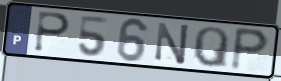5: (76, 14, 108, 59)
6: (114, 17, 150, 64)
N: (154, 21, 192, 67)
P: (228, 25, 272, 73), (32, 10, 72, 55)
Q: (191, 25, 230, 70)
